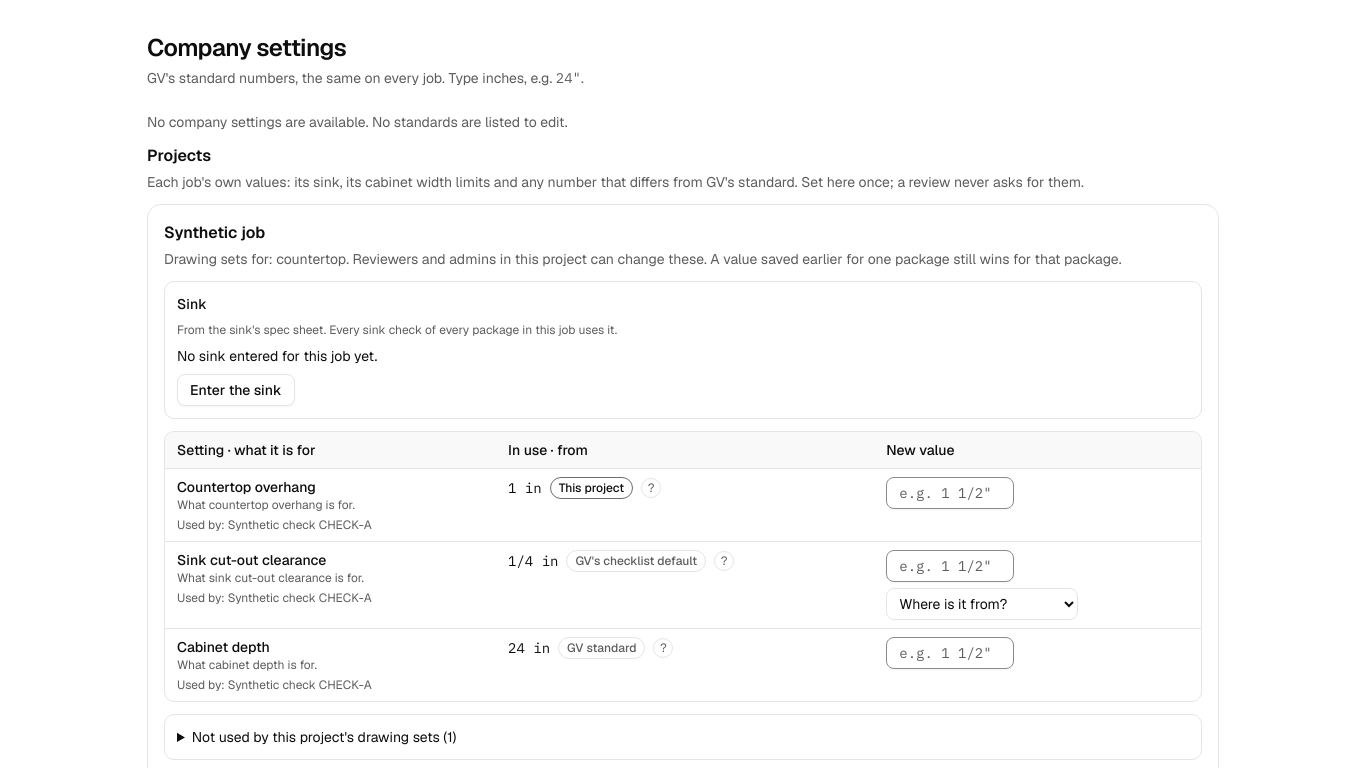
Test case: Company settings → Projects › enters the sink for the project shown, not the configured one
Click the button "Enter the sink": click(236, 390) [177, 374, 294, 406]
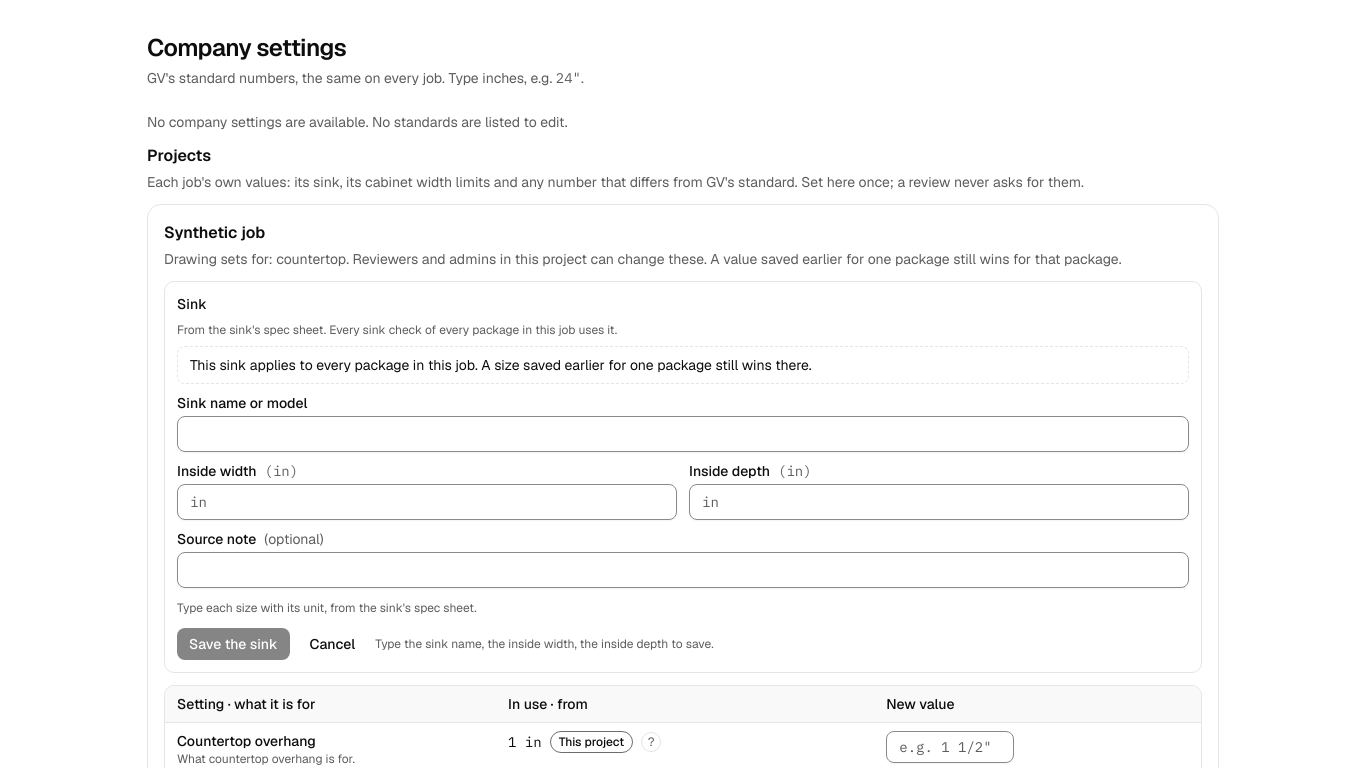
In the field labelled "Sink name or model": (683, 434) [177, 416, 1189, 452], type "Synthetic sink"
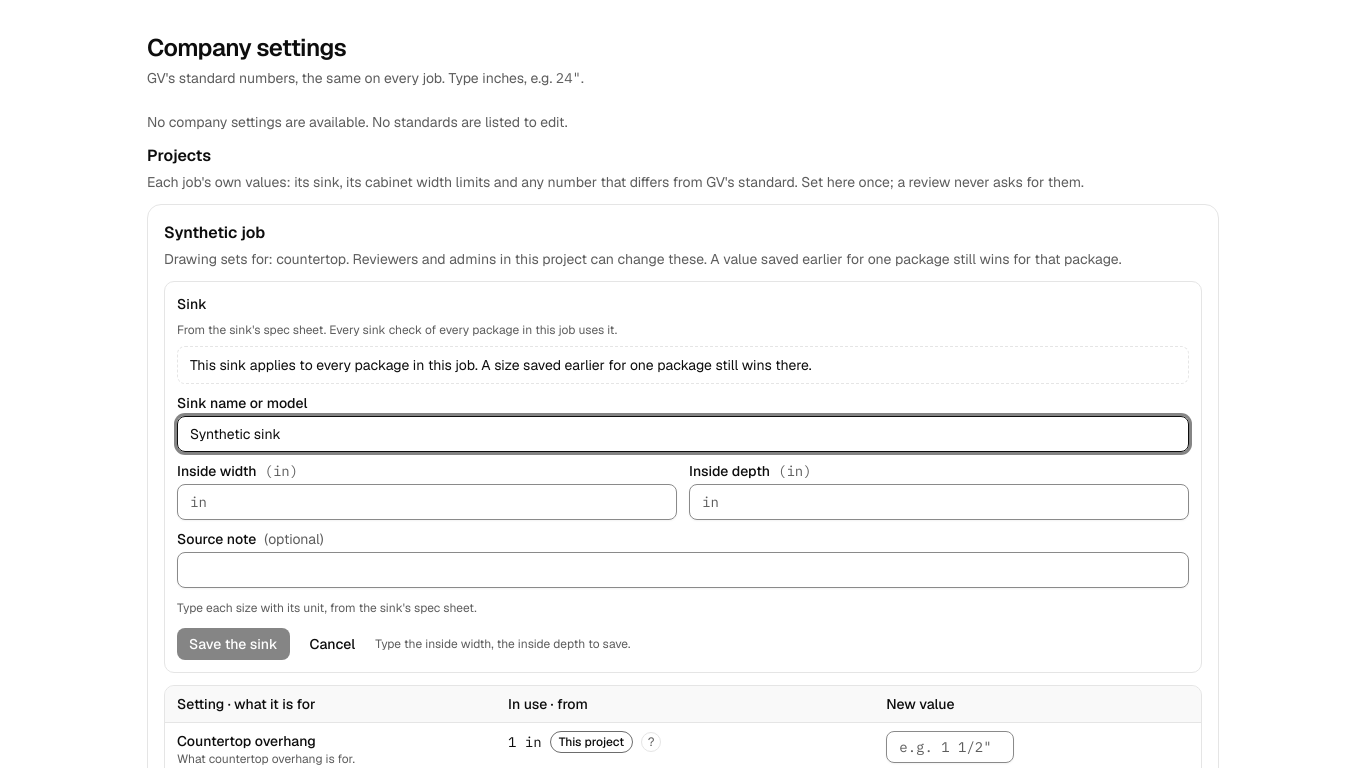
In the field labelled "Inside width (in)": (427, 502) [177, 484, 677, 520], type "28\""
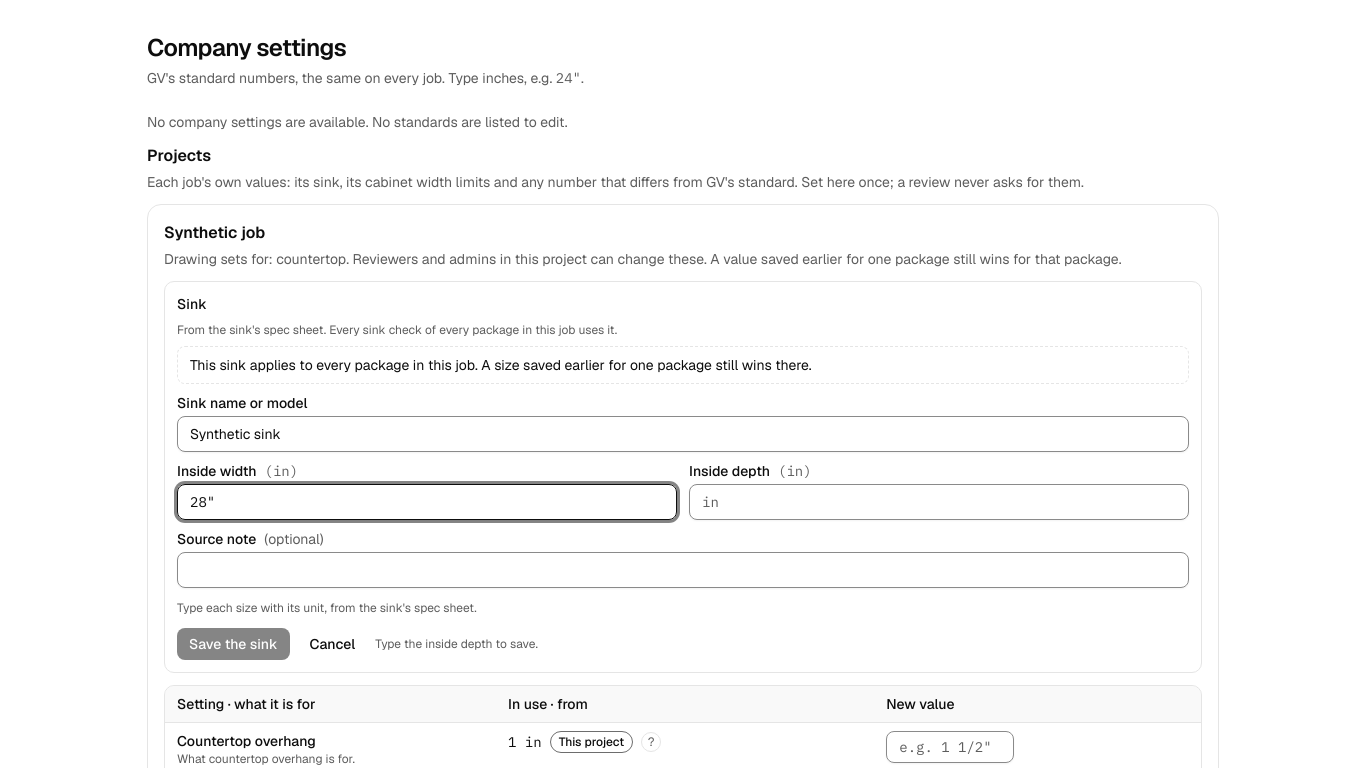
In the field labelled "Inside depth (in)": (939, 502) [689, 484, 1189, 520], type "16\""
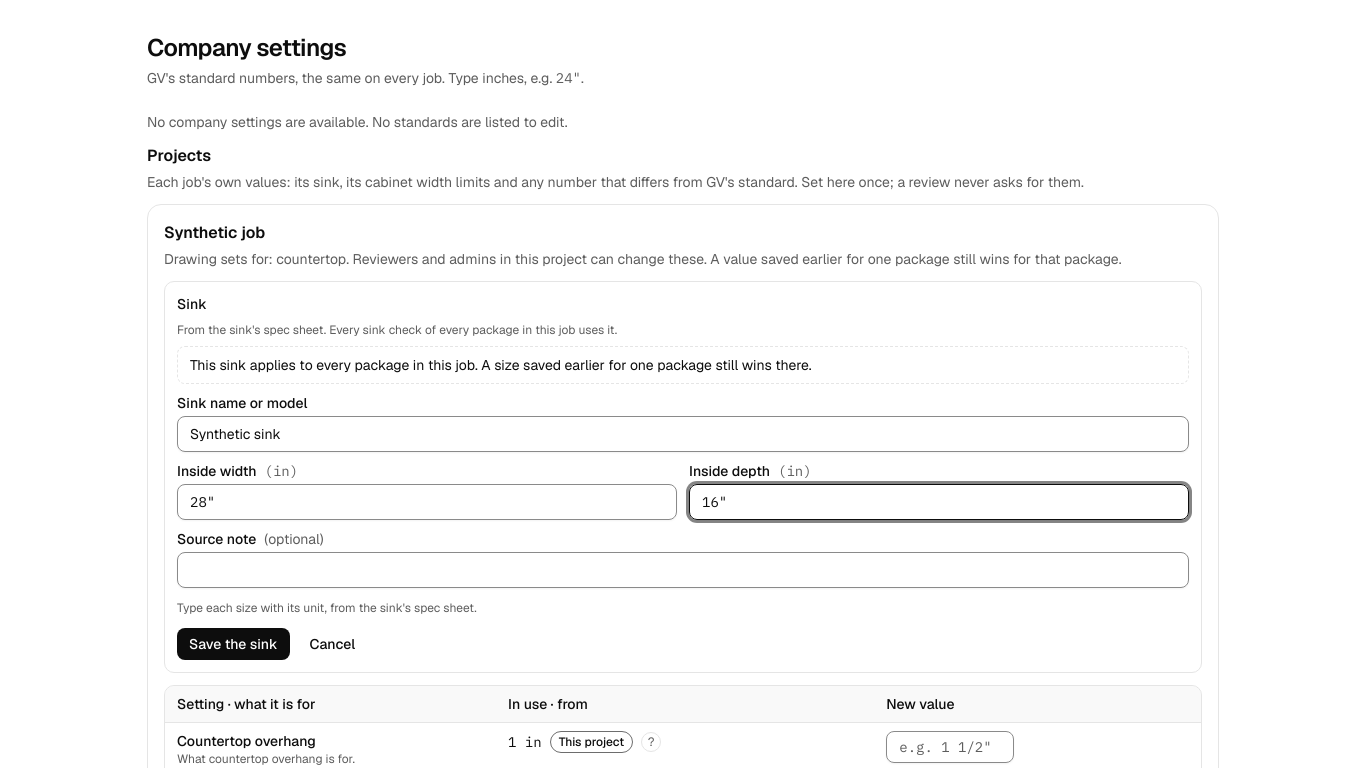
Click the button "Save the sink": click(233, 644) [177, 628, 290, 660]
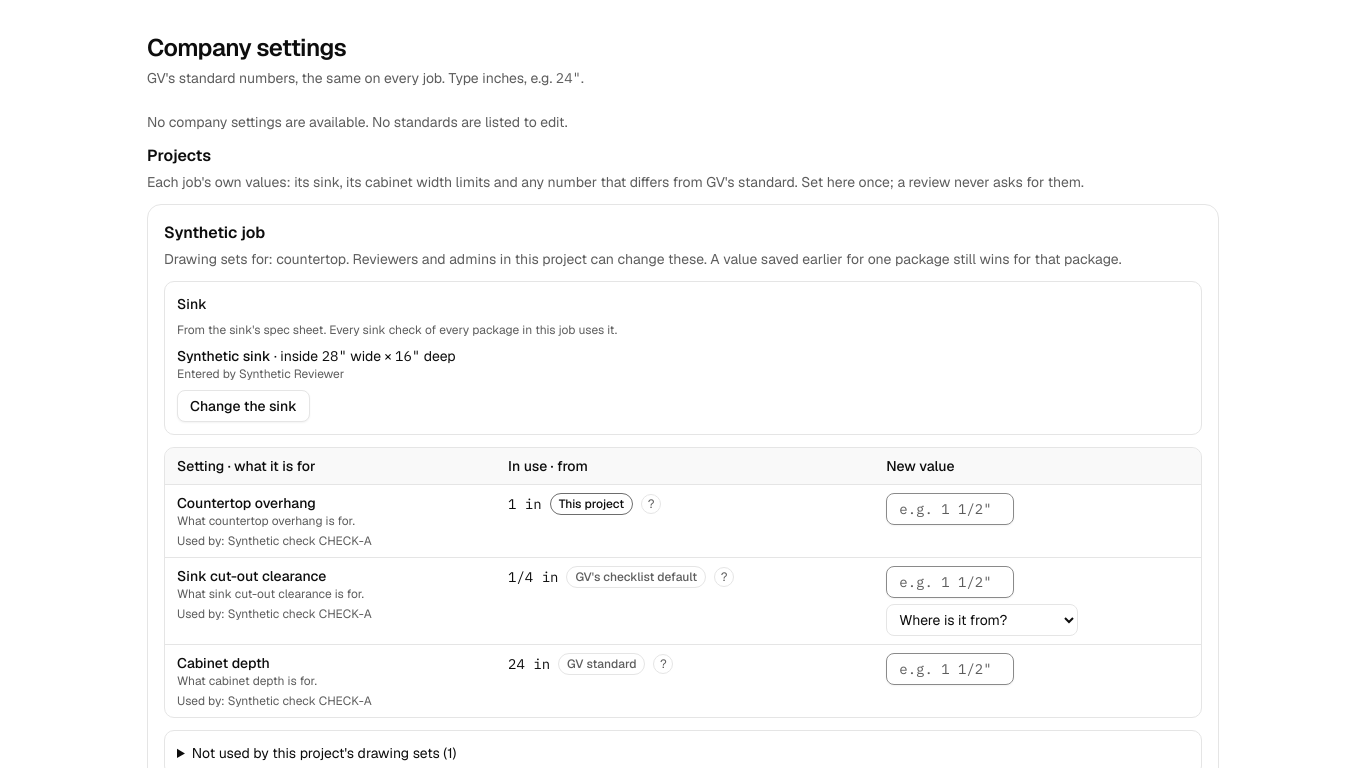
Expected: the text "Synthetic sink" is shown, [177, 347, 270, 365]
